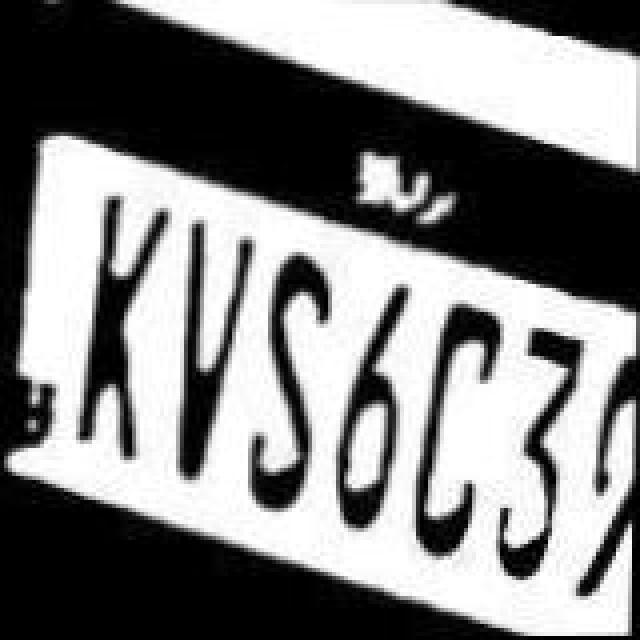3: (502, 326, 586, 586)
6: (338, 282, 414, 534)
C: (416, 278, 504, 570)
K: (76, 190, 168, 466)
S: (252, 256, 340, 516)
V: (174, 214, 254, 498)
